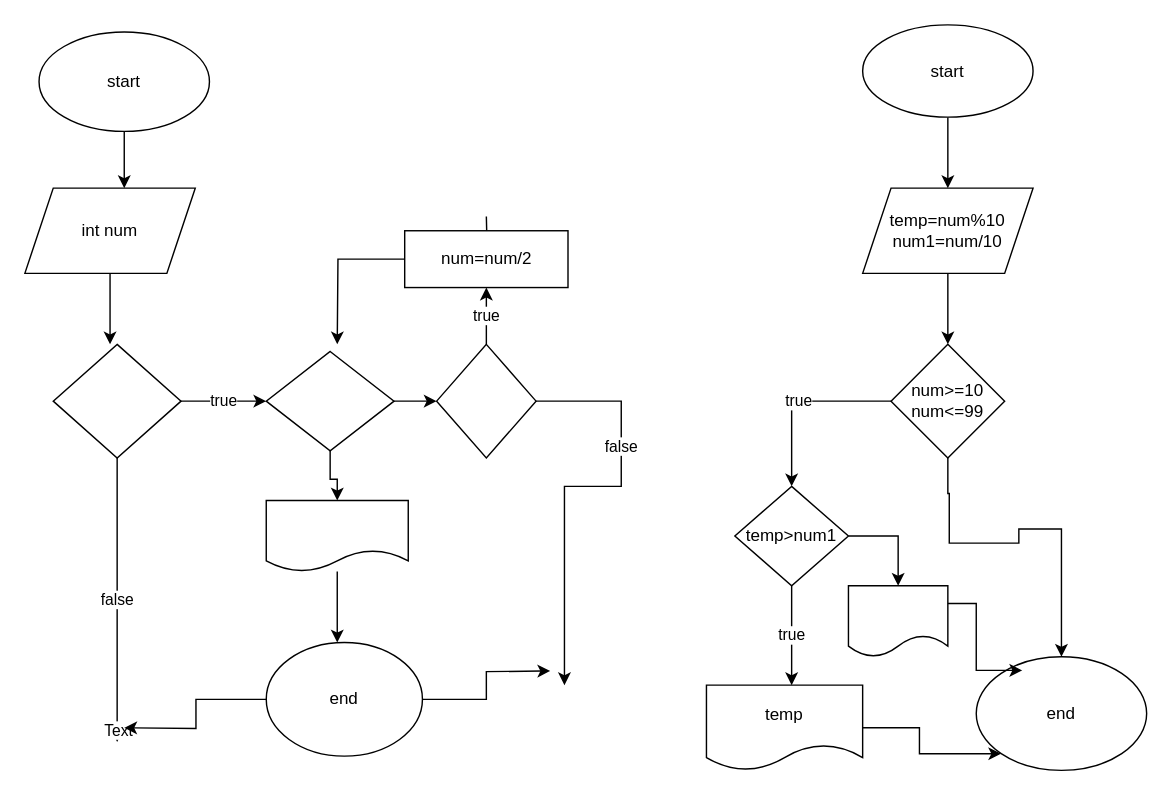
Image size: 1172x795. Some labels were removed from this diagram. Each missing label, with the centre of its shape:
"2-nin quvvetidir" belongs at (336,535).
"num%2==0" belongs at (485,400).
"num1" belongs at (897,620).
"num>1" belongs at (329,400).
"num>=0" belongs at (116,400).
